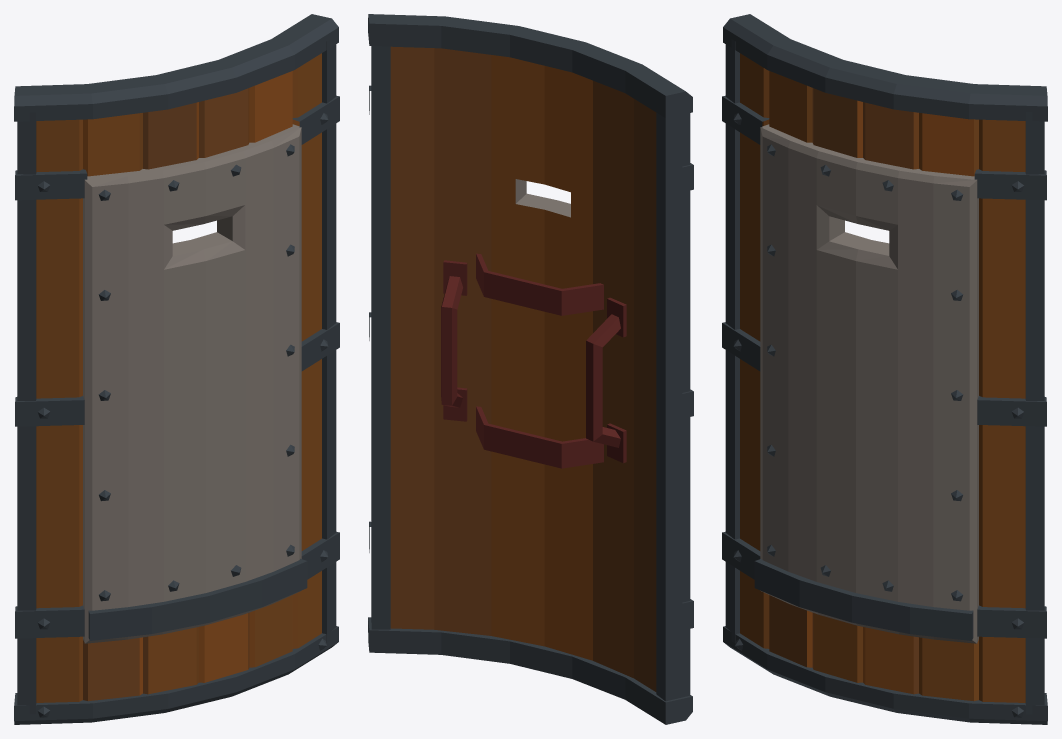
Rendered from ddos.glb.
3 renders of one model, left to right at view 1: azimuth 30°, elevation 25°; view 2: azimuth 150°, elevation 25°; view 3: azimuth 330°, elevation 25°, orthographic.
Parts seen in each view (by area): view 1: tower-shield-body; view 2: tower-shield-body; view 3: tower-shield-body.
Boxes of the visible parts, x1=… form: tower-shield-body: x1=14, y1=14, x2=339, y2=724; tower-shield-body: x1=368, y1=14, x2=693, y2=724; tower-shield-body: x1=722, y1=14, x2=1047, y2=724.
Size of the model in its own units: 0.7567 by 1.4 by 0.1866.
